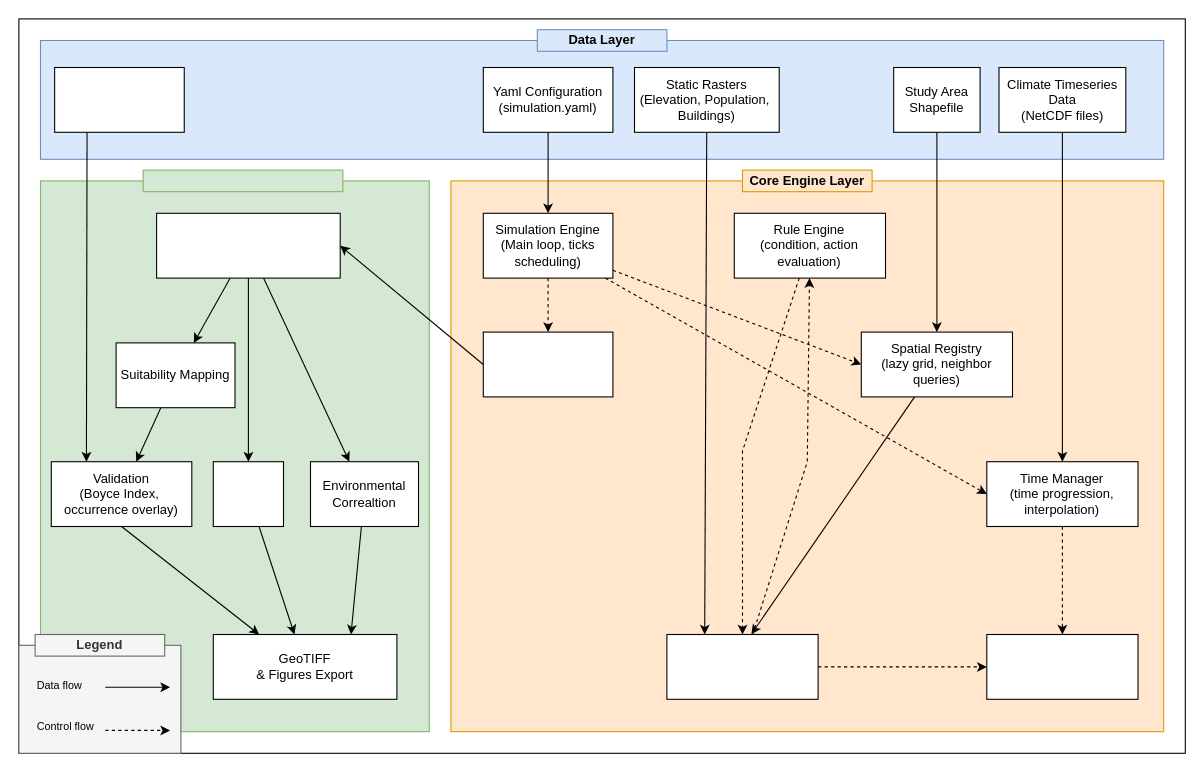
Some shapes in this 1204 by 772 pixel diagram are drawn without their labels. Each missing label, with the centre of its shape:
"Agent Layer" goes at [742,666].
"Analysis & Visualization Layer" goes at [242,180].
"Chunked CSV Reader (daily aggregation)" goes at [248,245].
"Lifecycle Model" goes at [1062,666].
"Occurrence Data (Literature, GBIF, iNaturalist)" goes at [119,99].
"Population Dynamics" goes at [248,493].
"Project Persistence Service (CSV Export)" goes at [547,364].
